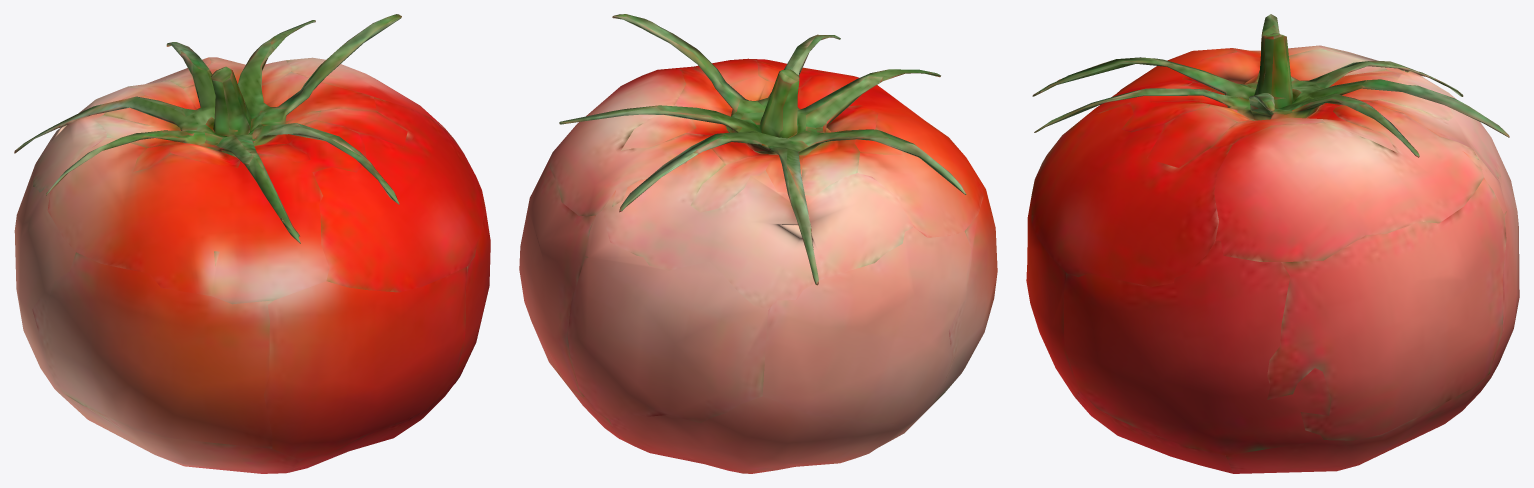
The model's file is item_tomato.glb.
The picture shows the model from 3 angles, left to right: view 1: azimuth 30°, elevation 25°; view 2: azimuth 150°, elevation 25°; view 3: azimuth 270°, elevation 25°; orthographic projection. The views are drawn at different scales.
Parts seen in each view (by area): view 1: tripo_node_9aec86a2; view 2: tripo_node_9aec86a2; view 3: tripo_node_9aec86a2.
Part boxes in pixels (box(x1,y1,x2,y2)): tripo_node_9aec86a2: box(14, 14, 490, 473); tripo_node_9aec86a2: box(519, 14, 997, 473); tripo_node_9aec86a2: box(1026, 14, 1519, 473).
Bounding box in the file's own units: 0.9786 × 0.8508 × 0.9599.
1 material, 1 textured.
